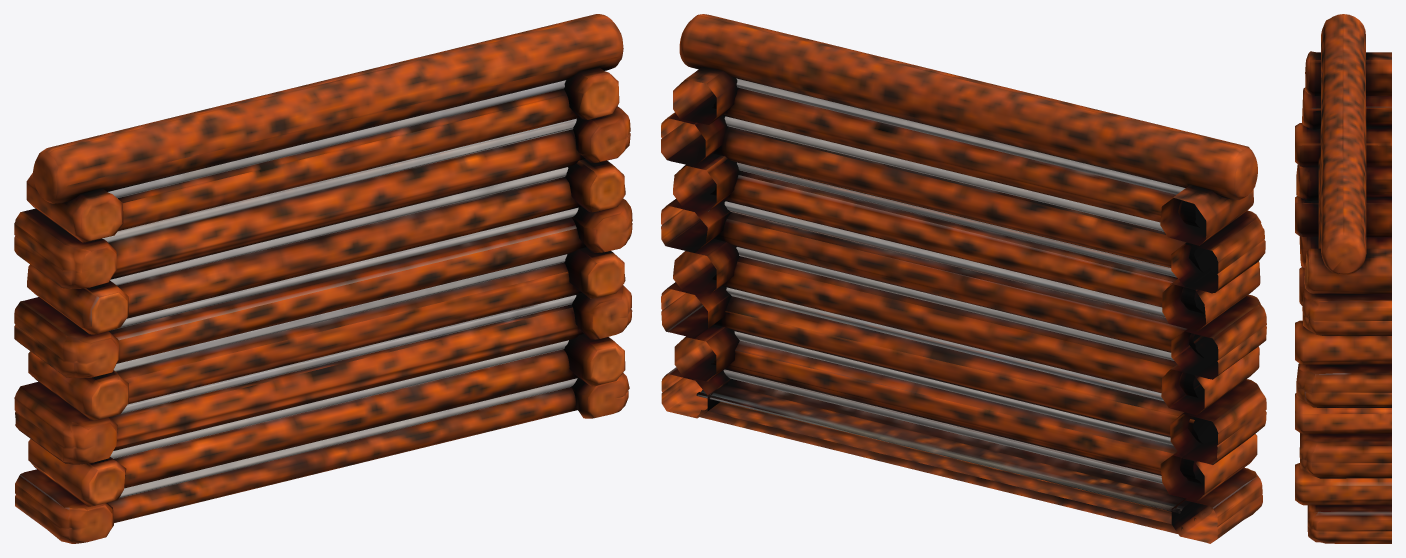
The model's file is HK_wall_chinked.glb.
3 views of the same model, side by side, from view 1: azimuth 30°, elevation 25°; view 2: azimuth 150°, elevation 25°; view 3: azimuth 270°, elevation 25° (orthographic). The views are drawn at different scales.
Visible parts, largest first — view 1: geometry_0; view 2: geometry_0; view 3: geometry_0.
Part boxes in pixels (x1,y1,x2,y2): geometry_0: (14,14,632,543); geometry_0: (661,14,1266,543); geometry_0: (1295,14,1391,543).
Bounding box in the file's own units: 0.9395 × 0.6025 × 0.17.
1 material, 1 textured.
